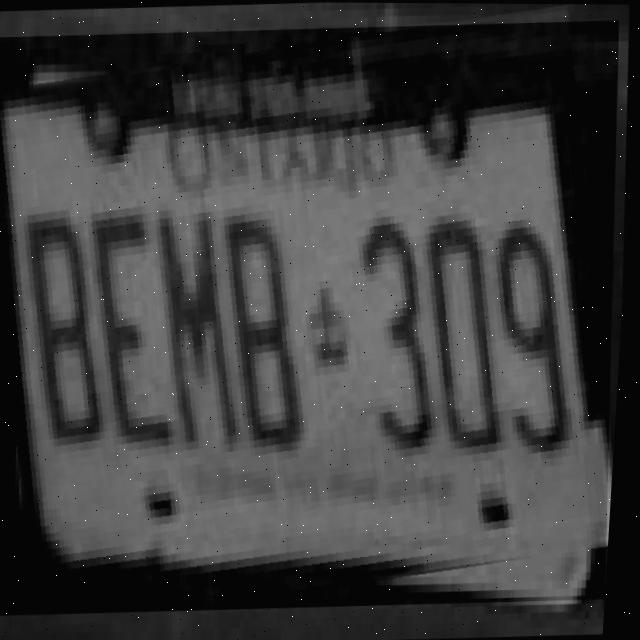LicensePlate: (0, 15, 639, 620)
